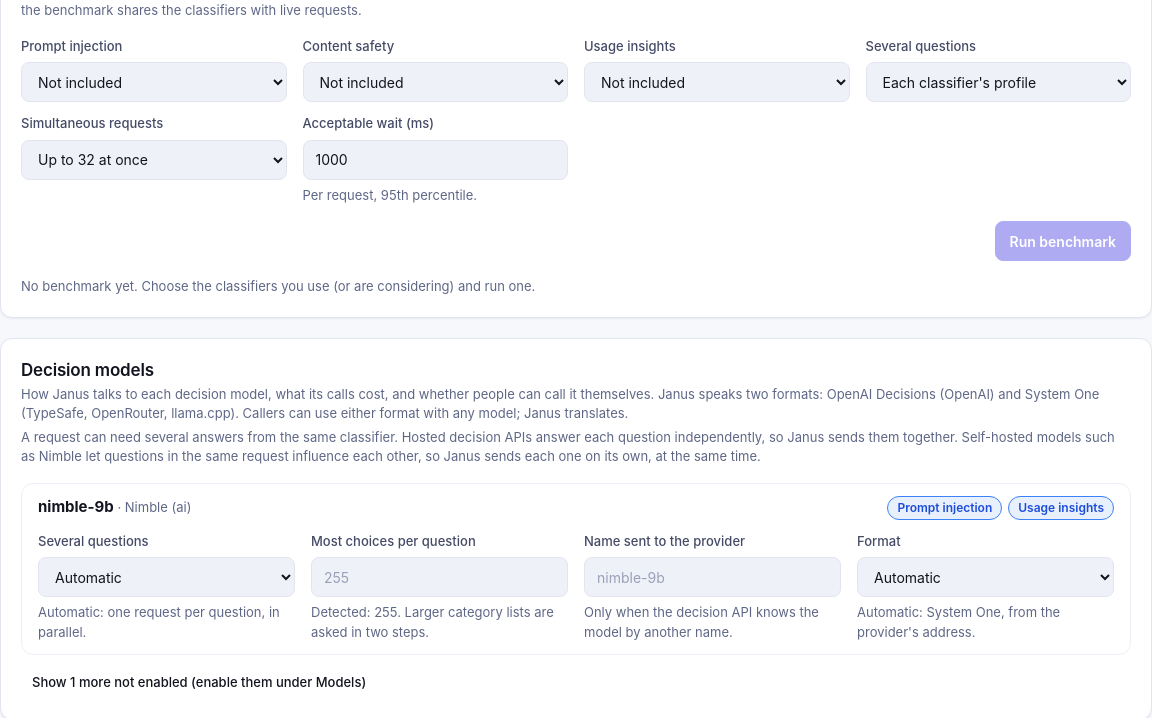
Test: Usage insights — performance › folds away decision models that are neither enabled nor in use
This screenshot has width=1152, height=718.
(page scrolled)
Expected: the text "nimble-9b" is shown, [38, 497, 114, 516]
Expected: the text "upstage/solar-decide" is not shown
Click the button "Show 1 more not enabled (enable them under Models)". click: (199,683)
box: [21, 667, 377, 699]
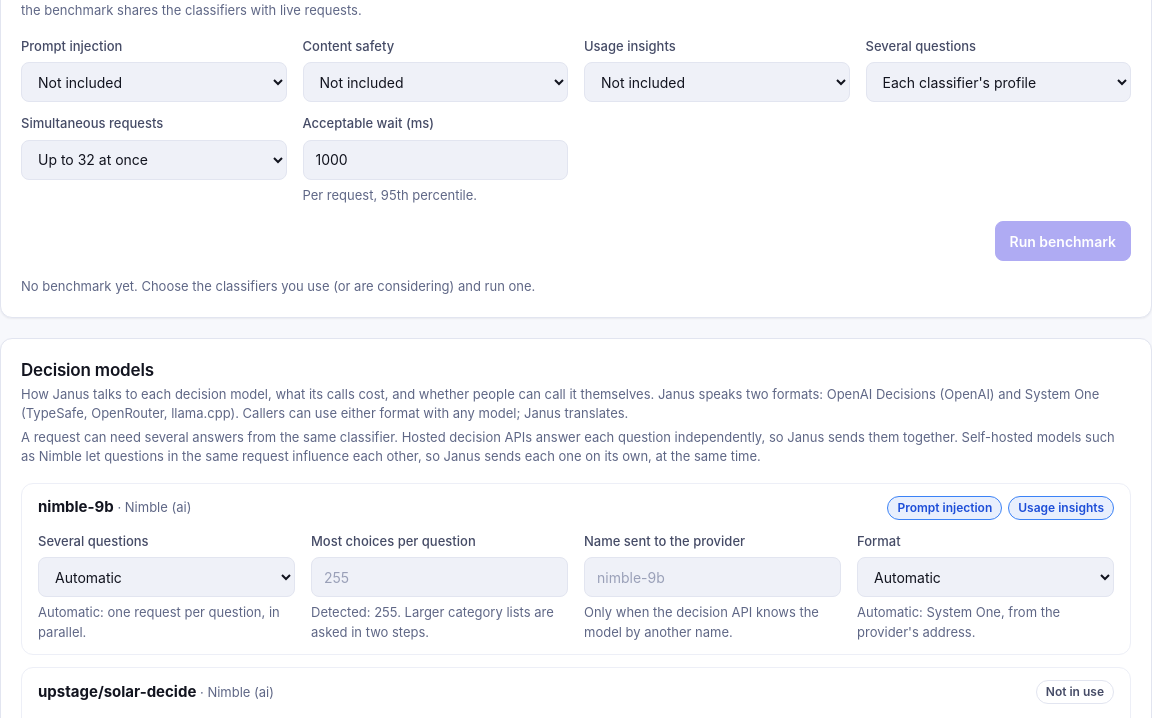
Now the text "upstage/solar-decide" is shown, box [38, 682, 196, 701]
